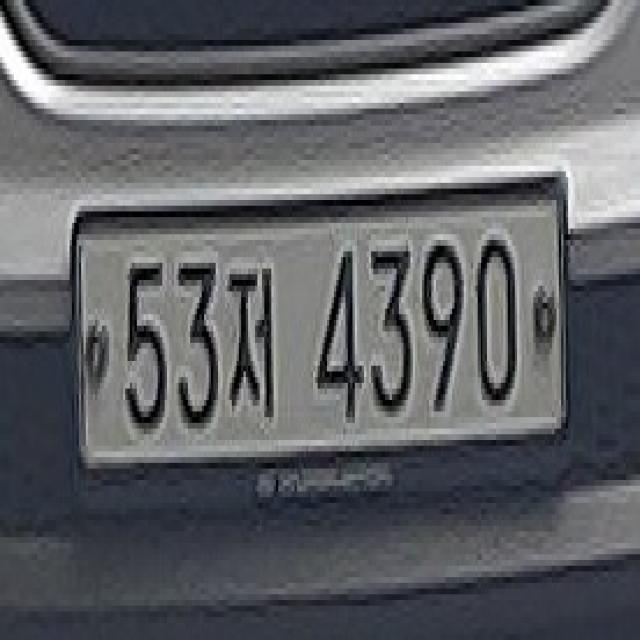0: (475, 189, 529, 417)
3: (371, 206, 413, 423), (174, 246, 223, 428)
4: (313, 223, 364, 428)
5: (118, 240, 174, 440)
9: (420, 212, 473, 428)
jeo: (220, 251, 283, 406)
license_plate: (72, 160, 573, 497)
